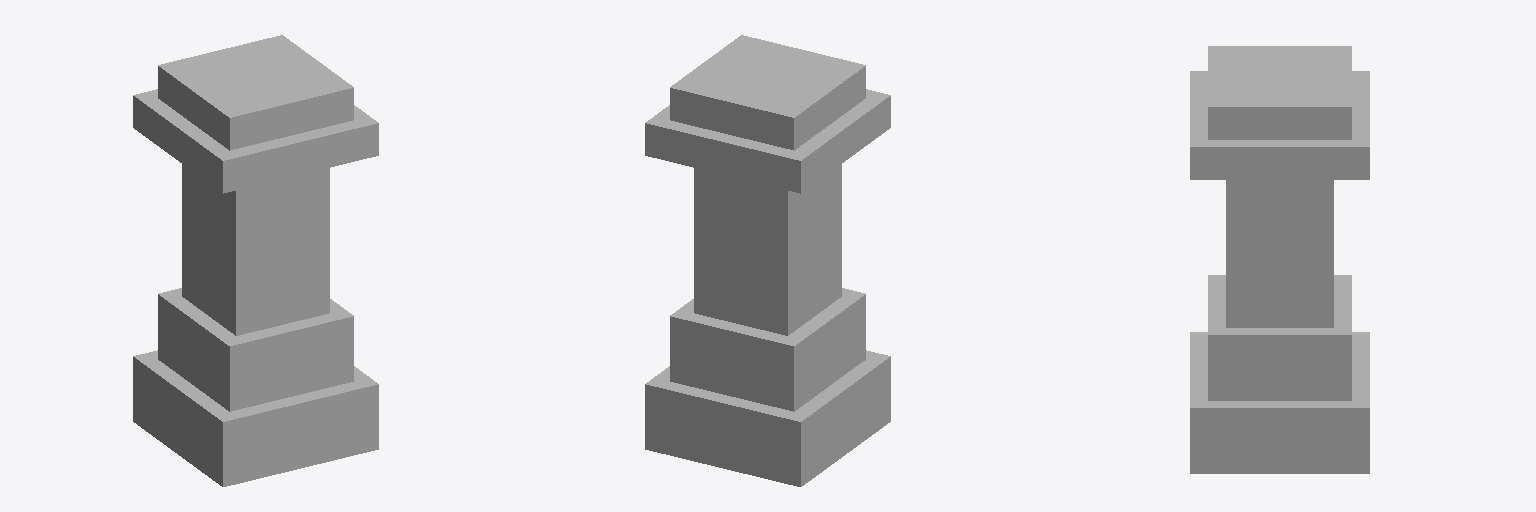
The picture shows the model from 3 angles: view 1: azimuth 30°, elevation 25°; view 2: azimuth 150°, elevation 25°; view 3: azimuth 270°, elevation 25°; orthographic projection.
Visible parts, largest first — view 1: Cube, Cube.003, Cube.001, Cube.002, Cube.004; view 2: Cube, Cube.003, Cube.001, Cube.002, Cube.004; view 3: Cube, Cube.003, Cube.001, Cube.002, Cube.004.
Part boxes in pixels (x1,y1,x2,y2): Cube: (182,164,329,335); Cube.003: (133,350,378,486); Cube.001: (158,35,353,150); Cube.002: (158,288,353,411); Cube.004: (133,89,378,193); Cube: (694,164,841,335); Cube.003: (645,350,890,486); Cube.001: (670,35,865,150); Cube.002: (670,288,865,411); Cube.004: (645,89,890,193); Cube: (1226,180,1333,327); Cube.003: (1190,332,1369,473); Cube.001: (1208,46,1351,139); Cube.002: (1208,275,1351,400); Cube.004: (1190,71,1369,179).
Size of the model in its own units: 1 by 2.2 by 1.
Materials: 5 (1 with a texture image).